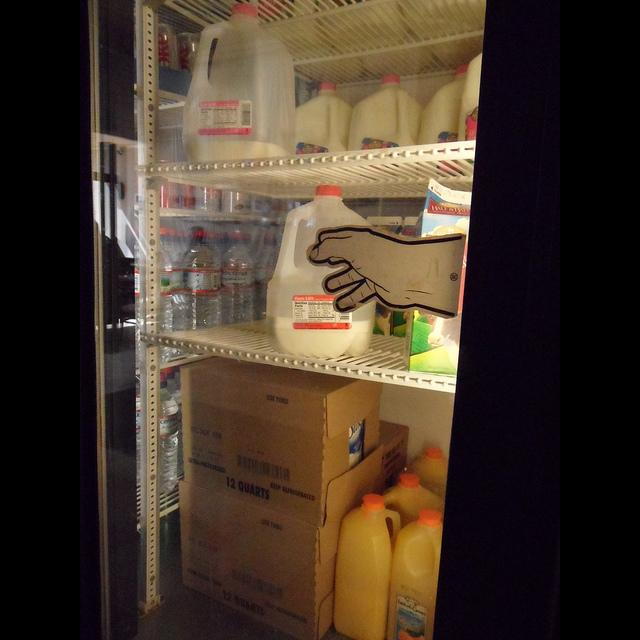Refrigerator: (84, 0, 560, 631)
